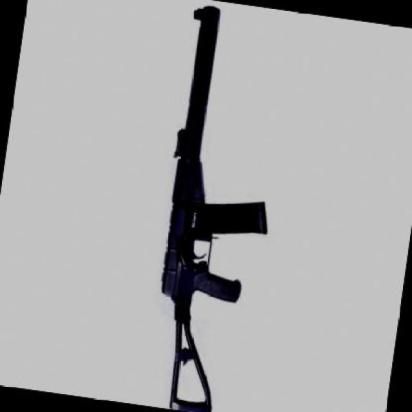Gun: (121, 0, 312, 412)
